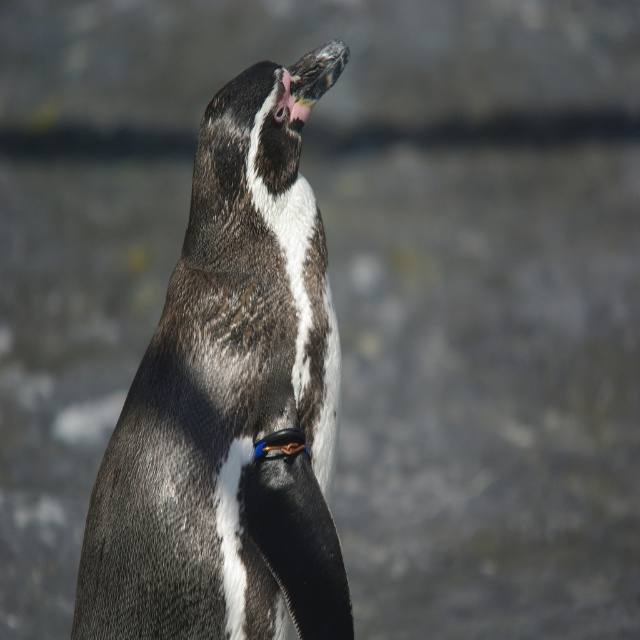Penguin: (68, 39, 354, 639)
